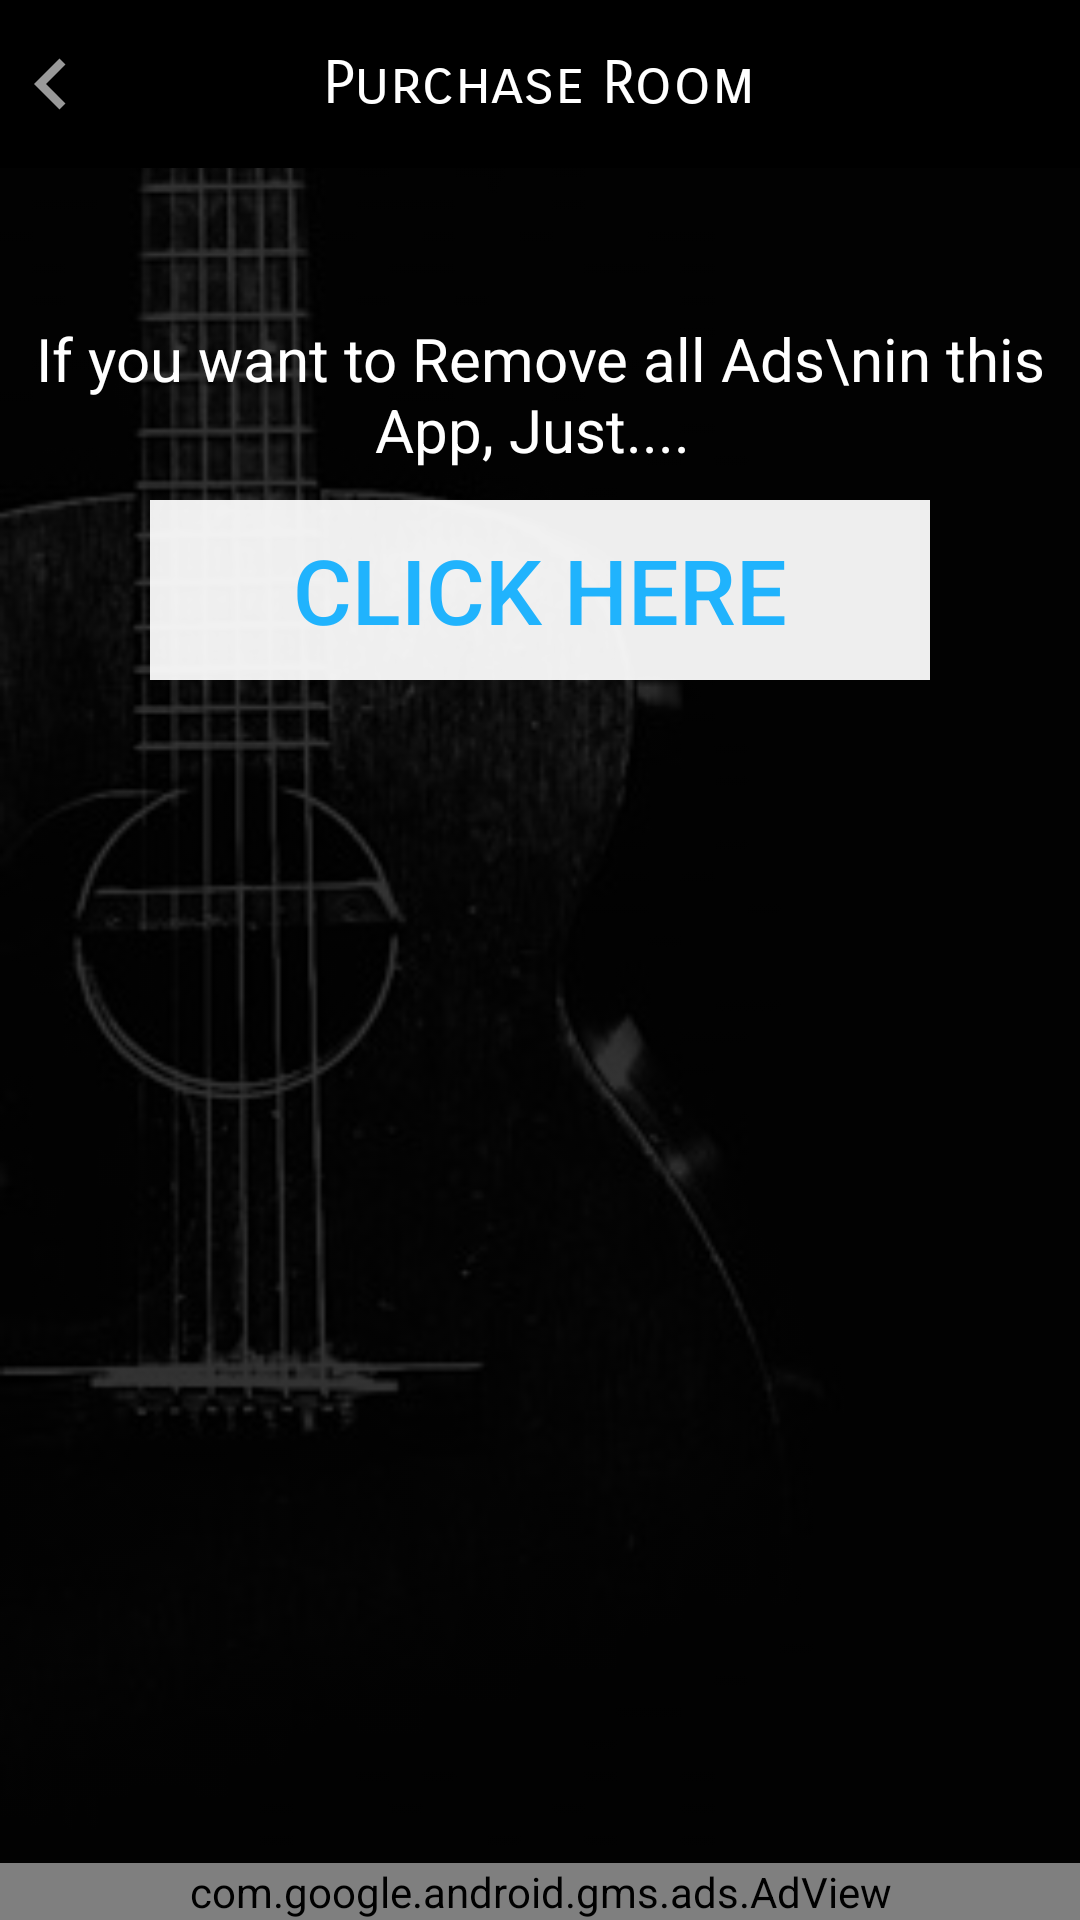

Point at icon controls on the screen. Image size 1080x1920, points as (x,y).
backing: (50,84)
